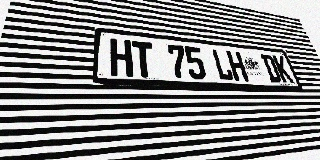5: (184, 46, 207, 80)
7: (166, 44, 190, 79)
D: (260, 54, 283, 83)
H: (110, 38, 133, 77), (226, 50, 249, 81)
K: (272, 55, 294, 83)
L: (211, 49, 234, 81)
T: (132, 41, 155, 78)
